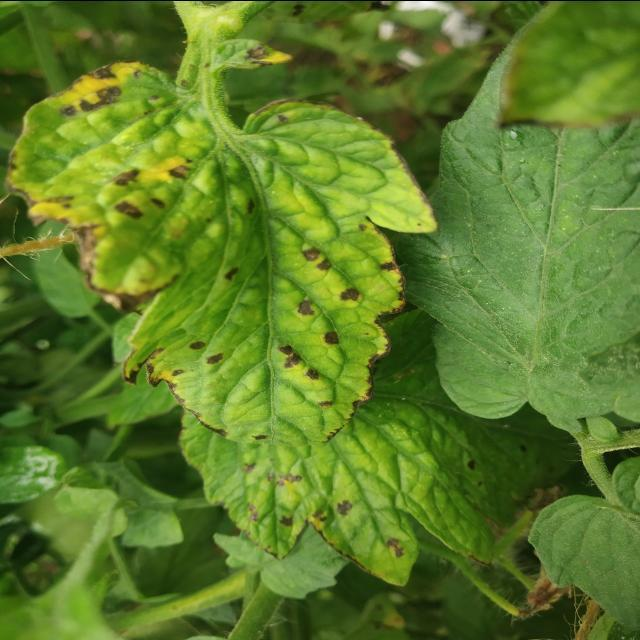Tomato mosaic virus leaf: (58, 35, 441, 451)
